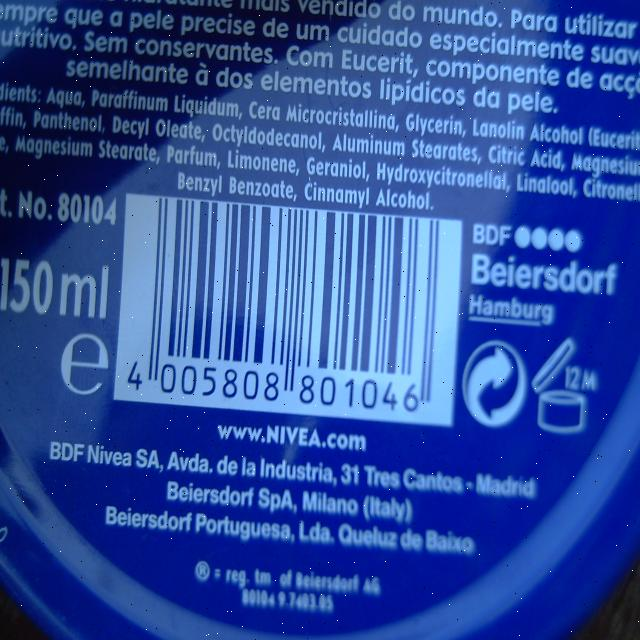barcode: (113, 198, 439, 418)
